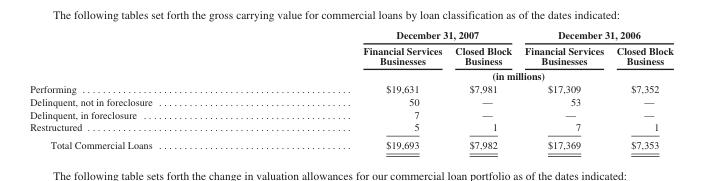table: (29, 28, 672, 150)
table column: (29, 28, 257, 150), (257, 28, 447, 150), (517, 28, 609, 150), (447, 28, 517, 150), (609, 28, 672, 150)
table column header: (29, 28, 672, 82)
table row: (29, 42, 672, 67), (29, 67, 672, 82), (29, 120, 672, 135), (29, 135, 672, 150), (29, 28, 672, 42), (29, 94, 672, 107), (29, 107, 672, 120), (29, 82, 672, 94)
table spanning cell: (257, 67, 672, 82), (257, 28, 517, 42), (517, 28, 672, 42)
